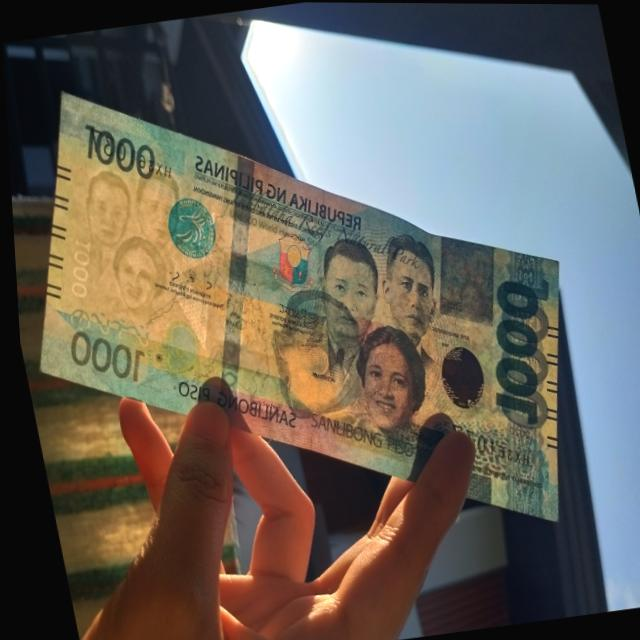concealed_value: (434, 234, 491, 326)
optically_variable_device: (430, 331, 488, 422)
security_thread: (215, 152, 252, 417)
see_through_mark: (60, 297, 152, 351)
value_watermark: (60, 237, 99, 300)
watermark: (71, 152, 200, 320)
